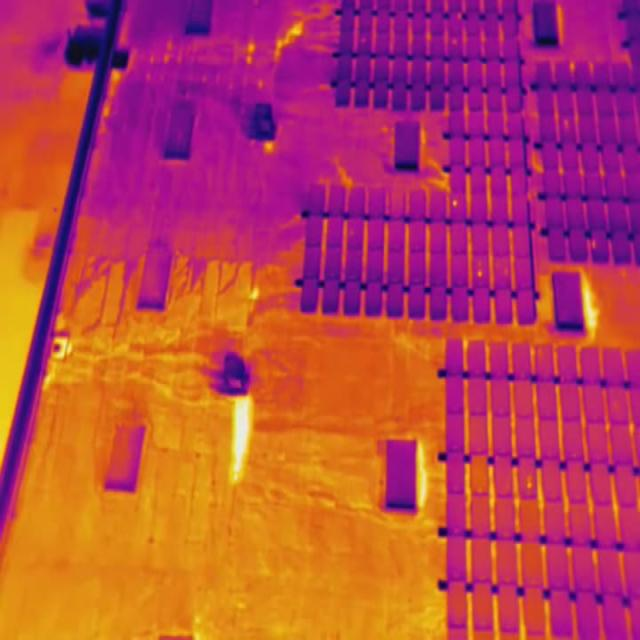Orange-Spots: (527, 476, 532, 489), (453, 200, 458, 208), (477, 270, 483, 276), (564, 120, 568, 128), (477, 260, 482, 266), (452, 39, 457, 44), (504, 268, 508, 274), (592, 242, 596, 248)
